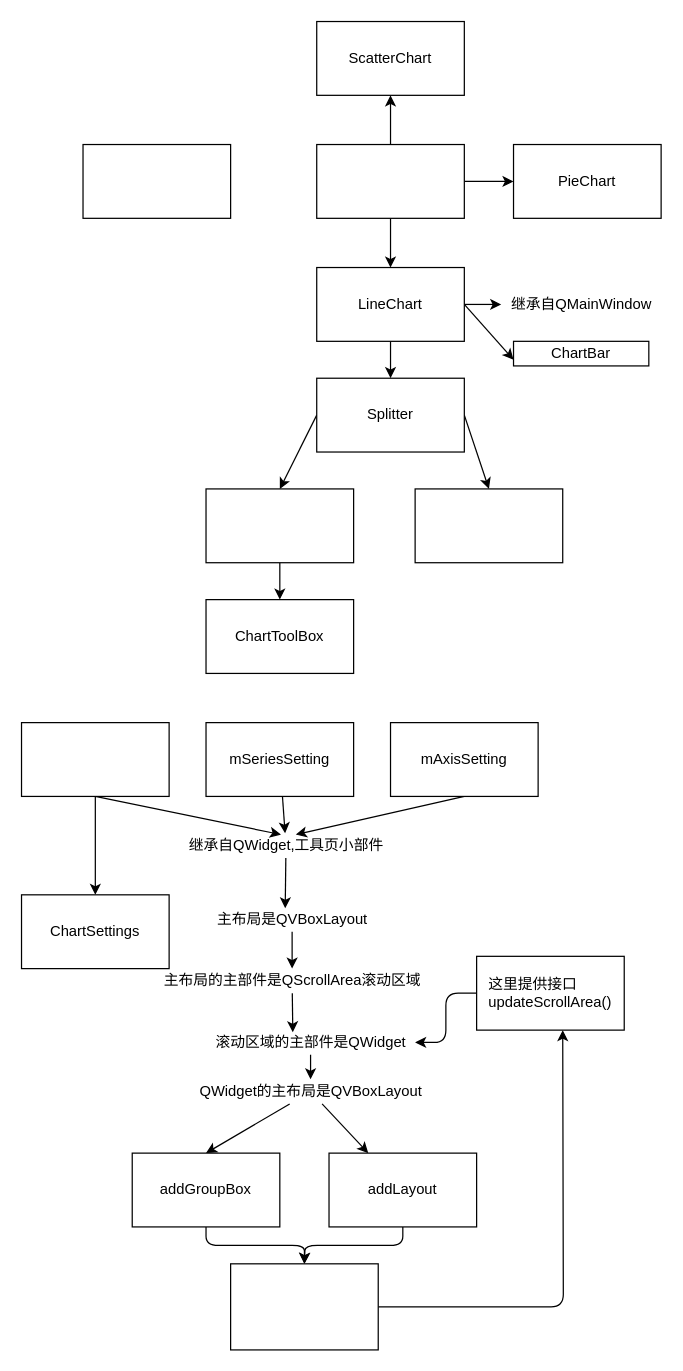
Image size: 683x1371. Some labels were removed from this diagram. Each missing label, with the box of its shape:
ChartView: (414, 488, 563, 563)
LineChartToolBox: (205, 488, 354, 563)
mChartSetting: (20, 721, 169, 796)
QTableView: (82, 143, 231, 218)
QTabWidget: (315, 143, 464, 218)
结束布局最后调用 QScrollArea.setWidget: (229, 1263, 378, 1350)
